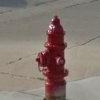Hydrant: (28, 10, 78, 100)
